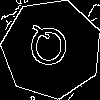Q: (26, 24, 70, 75)
